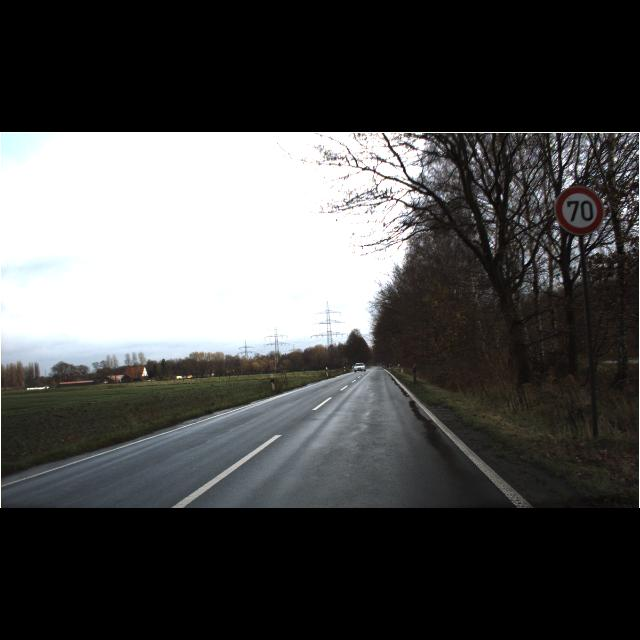prohibitory: (554, 186, 604, 234)
